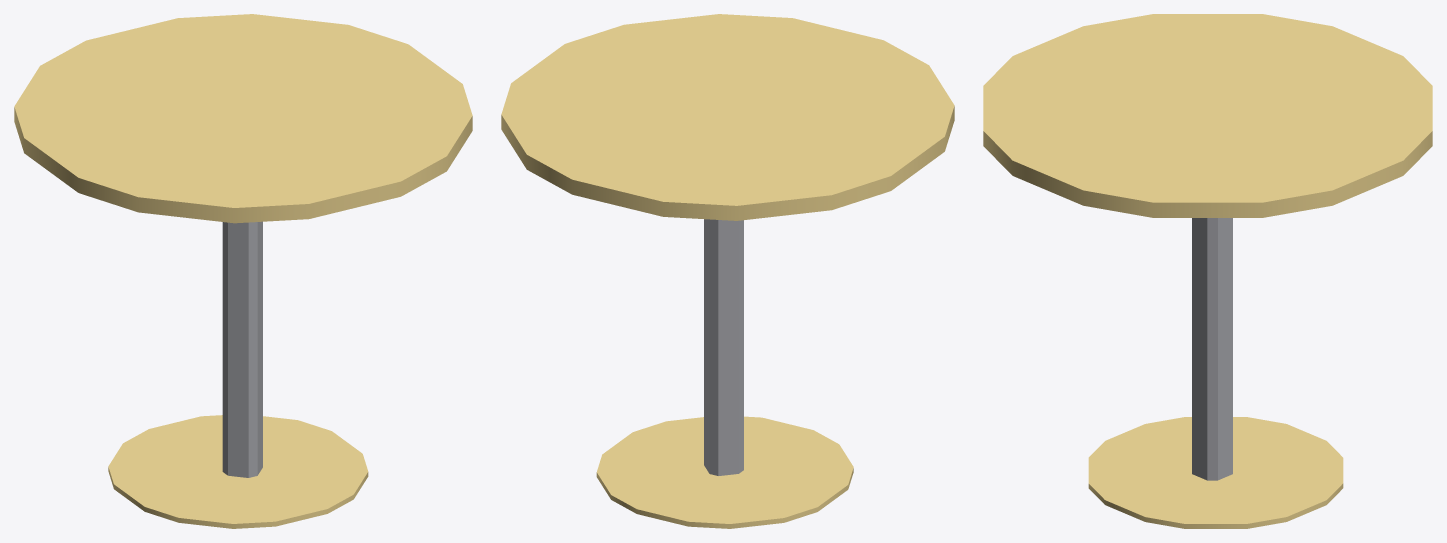
Rendered from Round_table.fbx.
3 views of the same model, side by side, from view 1: azimuth 30°, elevation 25°; view 2: azimuth 150°, elevation 25°; view 3: azimuth 270°, elevation 25° (orthographic).
Parts seen in each view (by area): view 1: Round_table; view 2: Round_table; view 3: Round_table.
Boxes of the visible parts, x1,y1,x2,y2 form: Round_table: [14, 14, 472, 528]; Round_table: [501, 14, 954, 528]; Round_table: [983, 14, 1432, 528].
Bounding box in the file's own units: 78.65 × 71.48 × 79.11.
